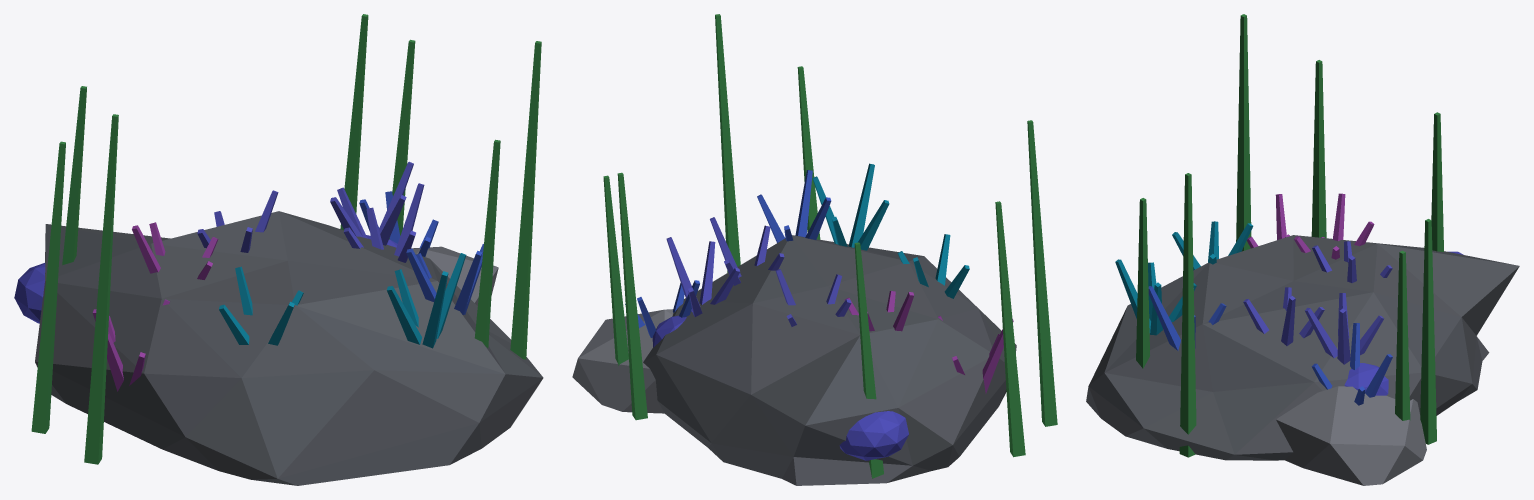
File: lair-reef-deep.glb
The picture shows the model from 3 angles, left to right: view 1: azimuth 30°, elevation 25°; view 2: azimuth 150°, elevation 25°; view 3: azimuth 270°, elevation 25°; orthographic projection. The views are drawn at different scales.
Visible parts, largest first — view 1: lair-reef-deep; view 2: lair-reef-deep; view 3: lair-reef-deep.
Boxes of the visible parts, box(x1,y1,x2,y2) form: lair-reef-deep: box(14, 14, 543, 485); lair-reef-deep: box(572, 14, 1057, 485); lair-reef-deep: box(1086, 14, 1519, 485).
Bounding box in the file's own units: 4.33 × 2.92 × 3.98.
